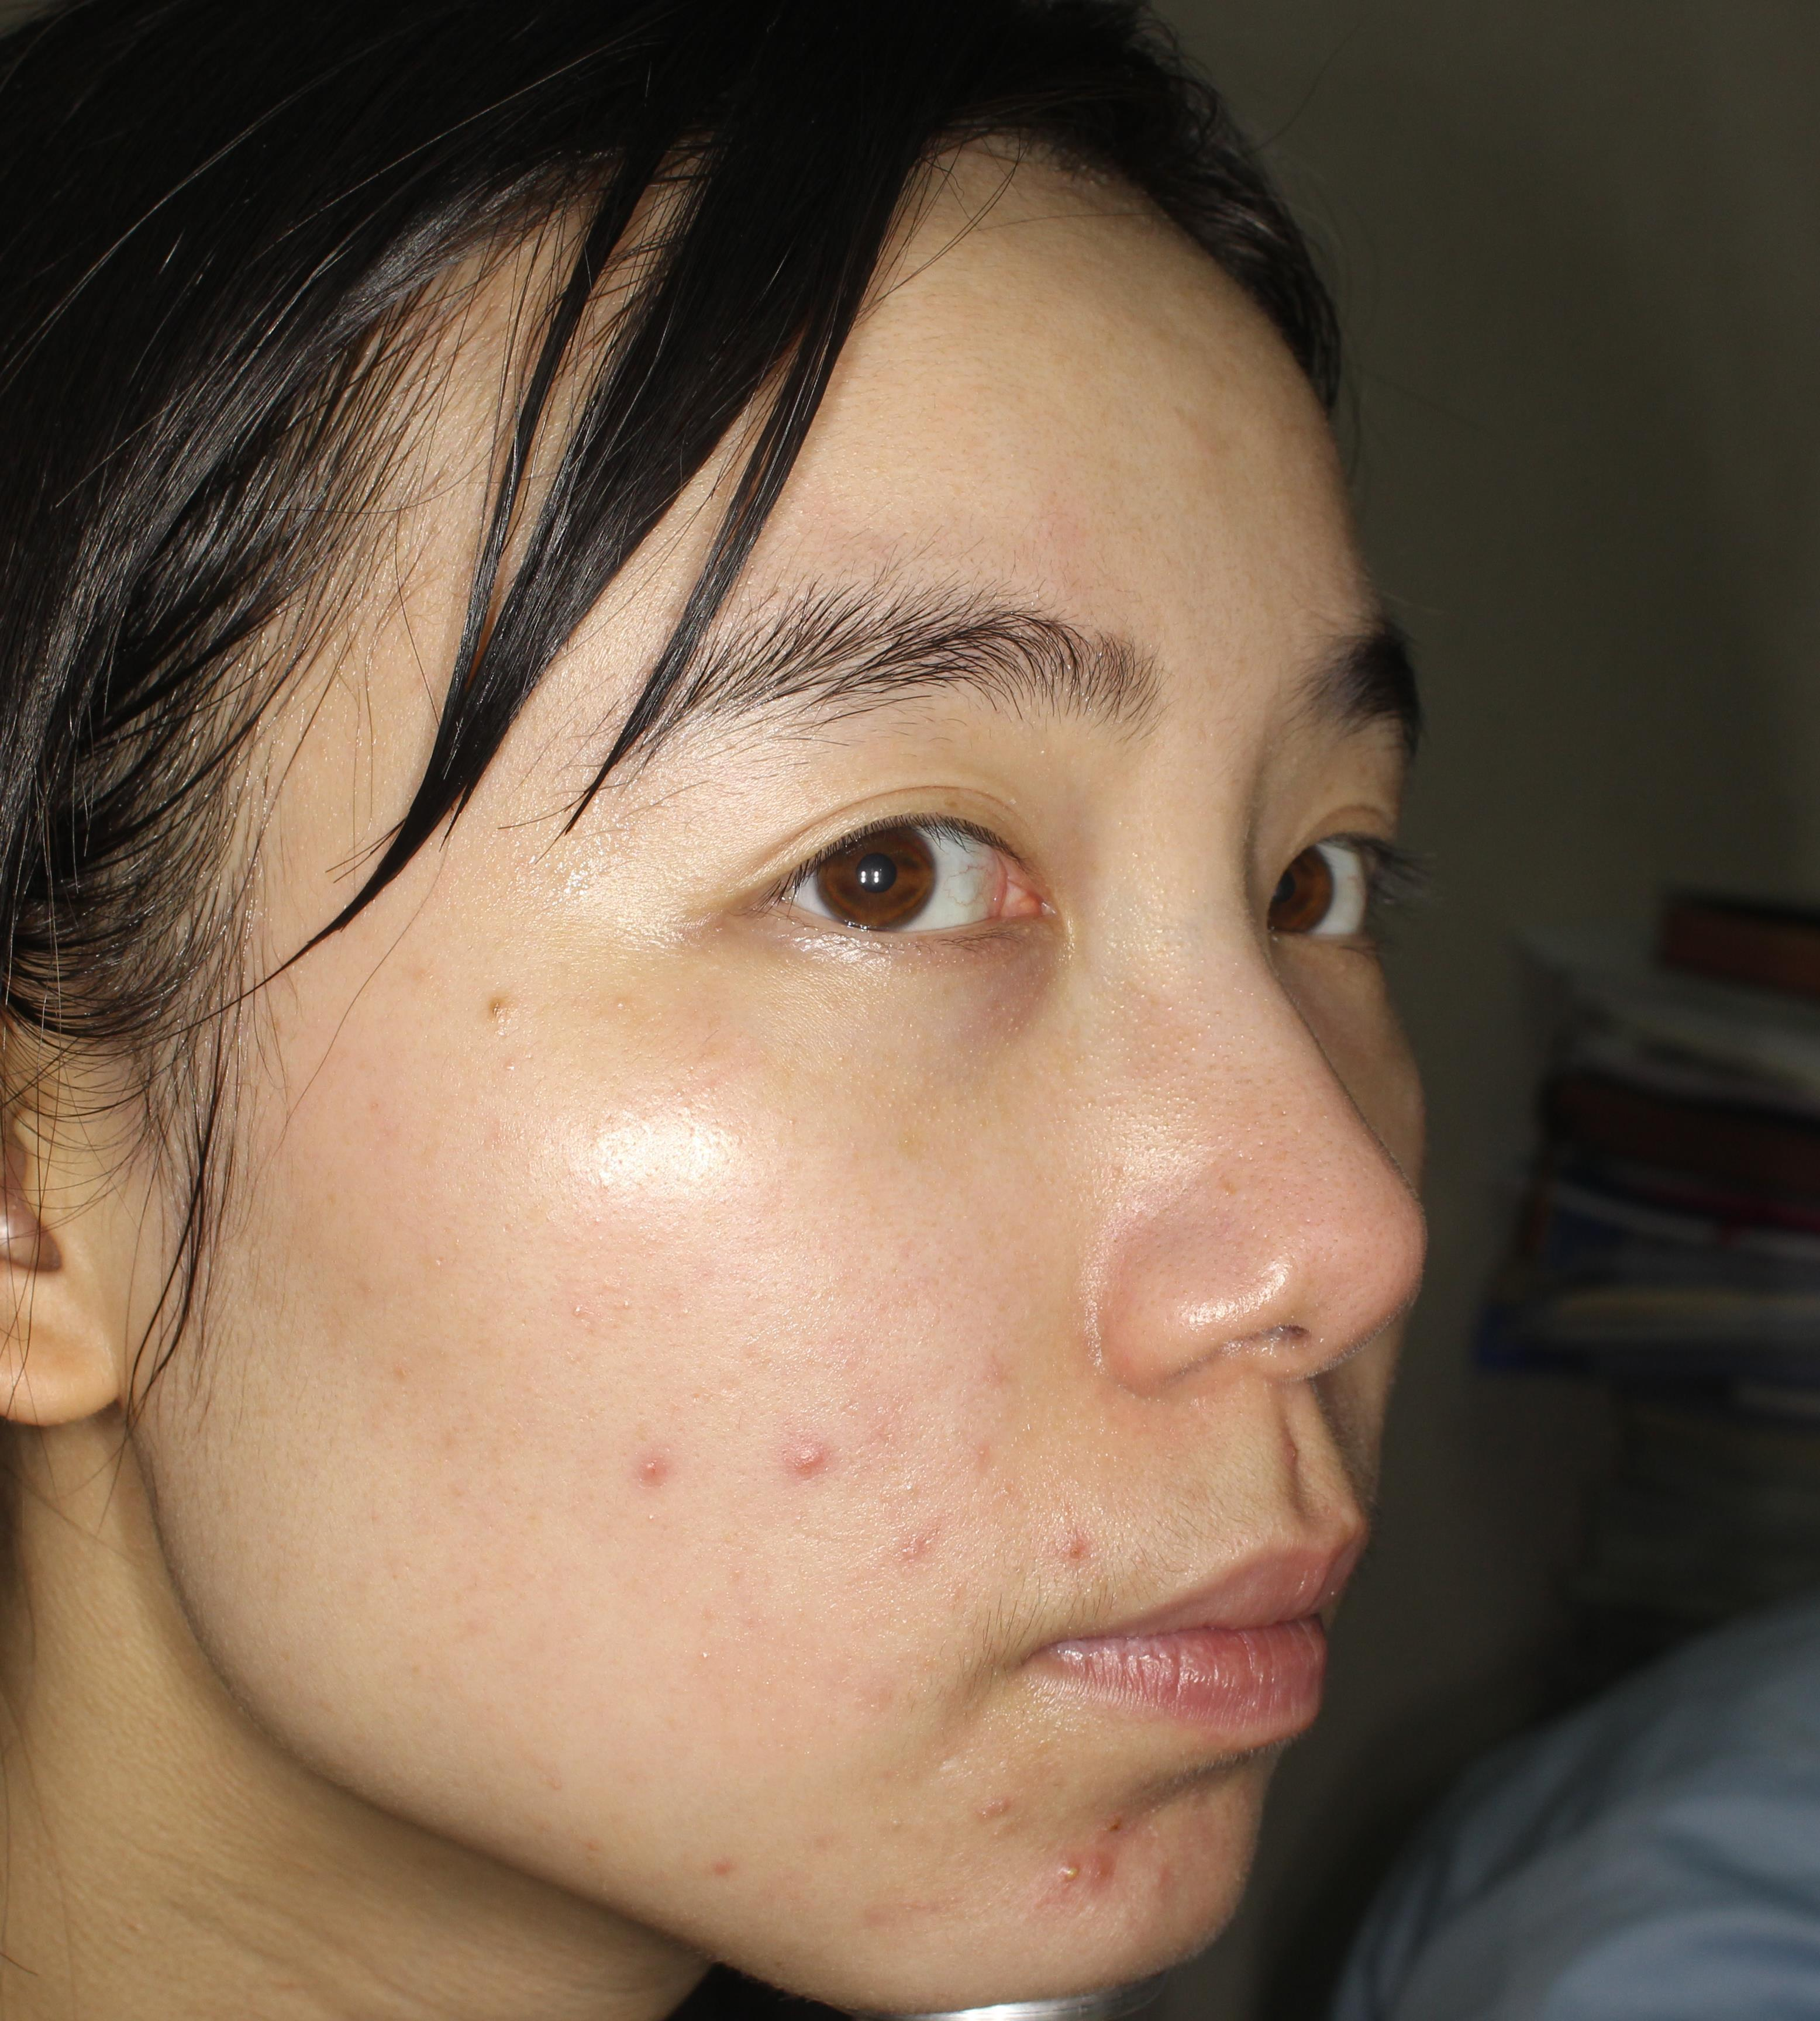fore: (1051, 1823, 1135, 1912), (950, 1773, 1036, 1849), (780, 1424, 857, 1491), (1042, 1522, 1117, 1589), (884, 1505, 933, 1594), (632, 1442, 687, 1487)
